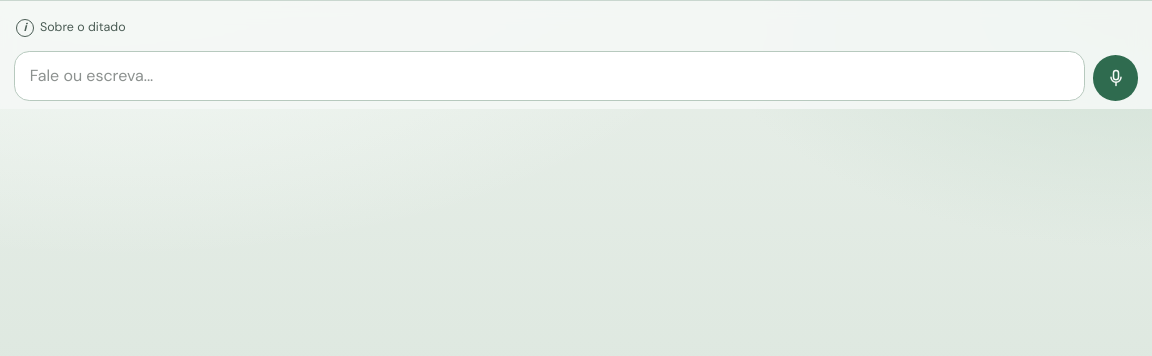
compositor no estilo WhatsApp › depois do envio o campo fica limpo e um onresult atrasado não volta
Press the mouse on the button named "Toque para falar, ou segure para gravar" at (1116, 78), box [1093,55,1138,101]
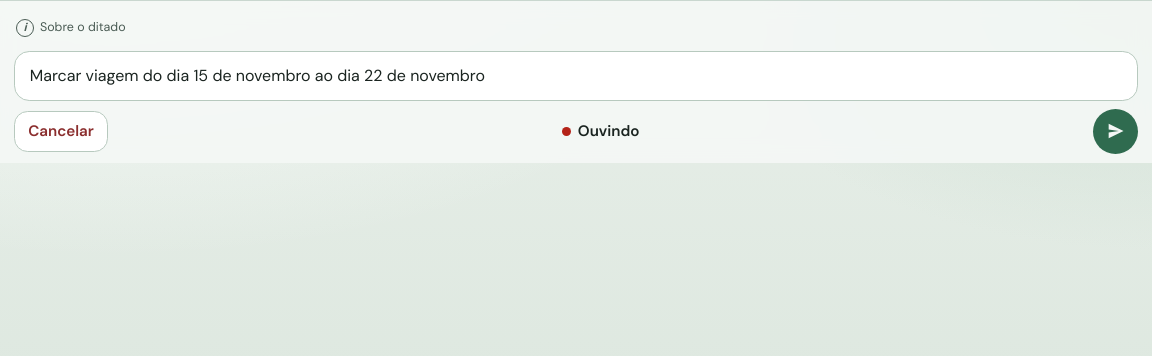
Click the button named "Enviar" at (1116, 131), box [1093,109,1138,154]
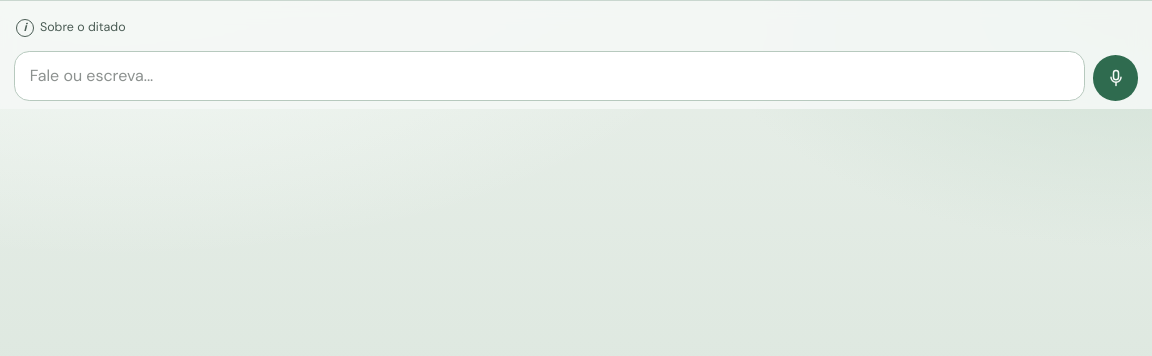
Check: the text "Cancelar" is gone
Check: the text box with placeholder "Fale ou escreva..." is empty, box [14,51,1085,101]
